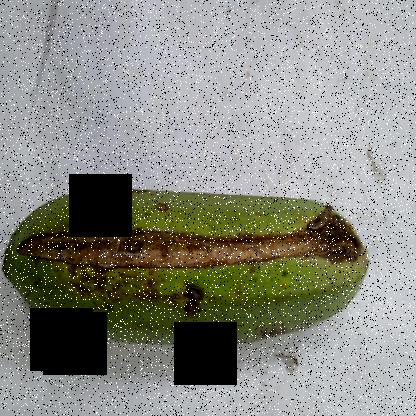rotten: (15, 156, 386, 370)
